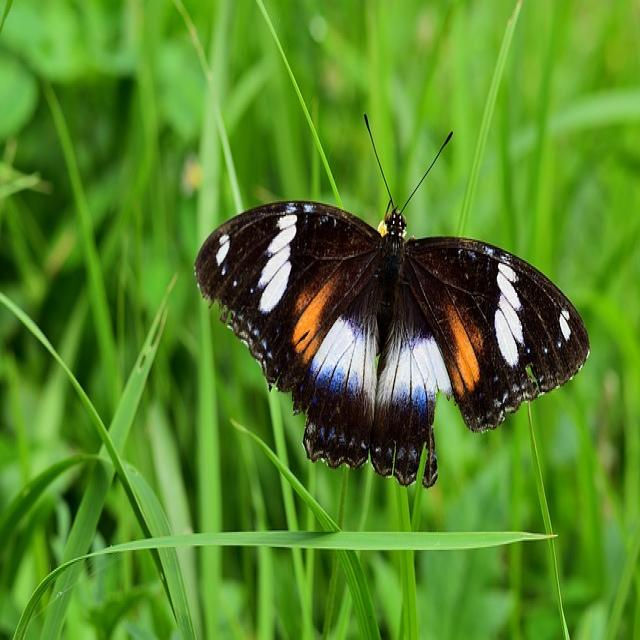butterfly: (192, 201, 590, 488)
